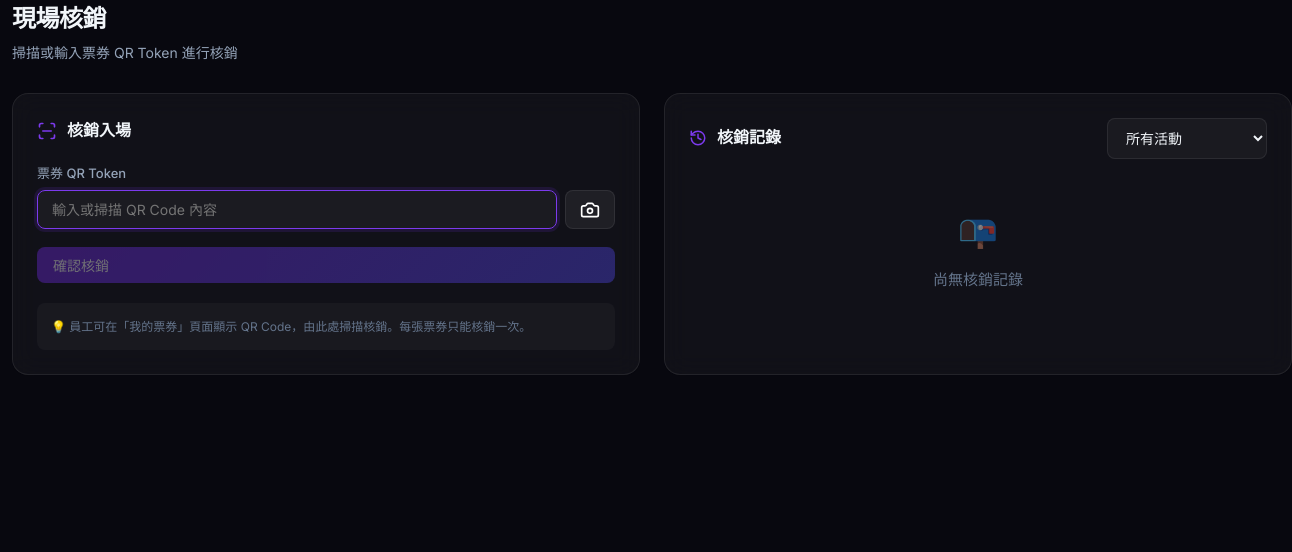
Test case: CheckIn › 票券已核銷錯誤會顯示對應訊息
Type "QR-TOKEN-123456" into the field with placeholder "輸入或掃描 QR Code 內容".
click(297, 210); type("QR-TOKEN-123456")  # box [37, 190, 557, 229]
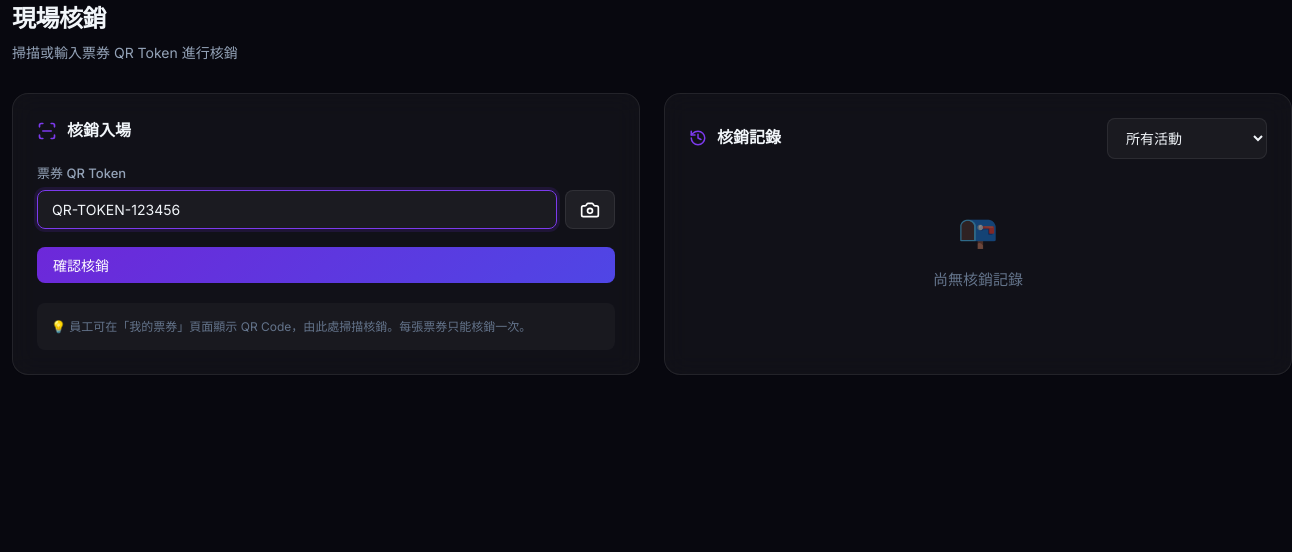
Click the button "確認核銷".
click(81, 266)  # box [37, 247, 615, 283]
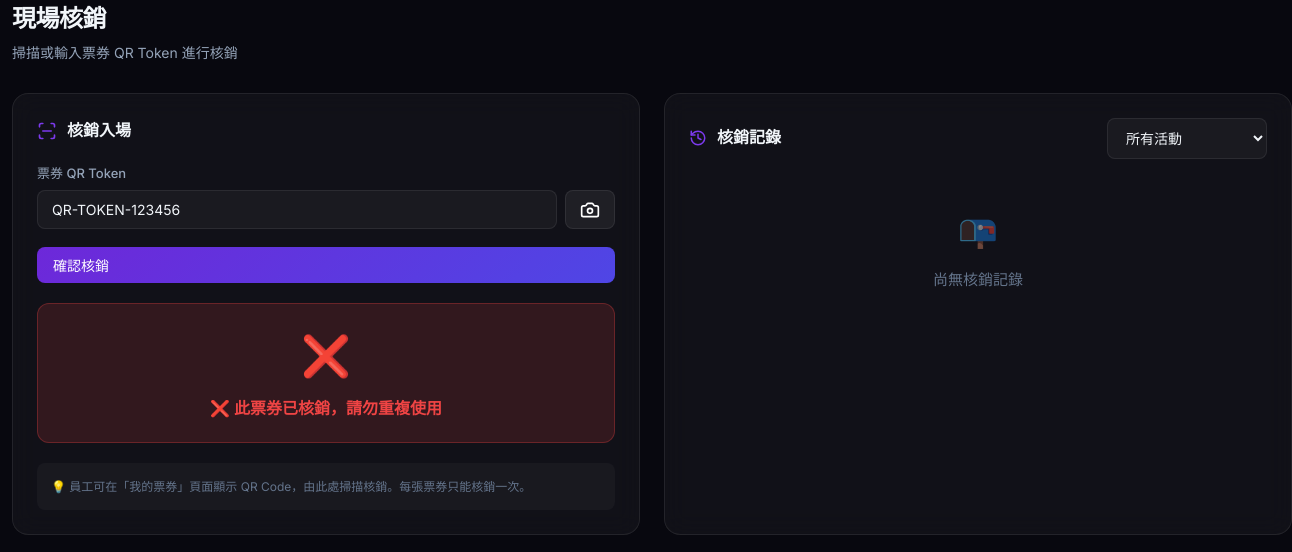
expect the text "❌ 此票券已核銷，請勿重複使用" is shown: met, box [210, 398, 442, 418]
